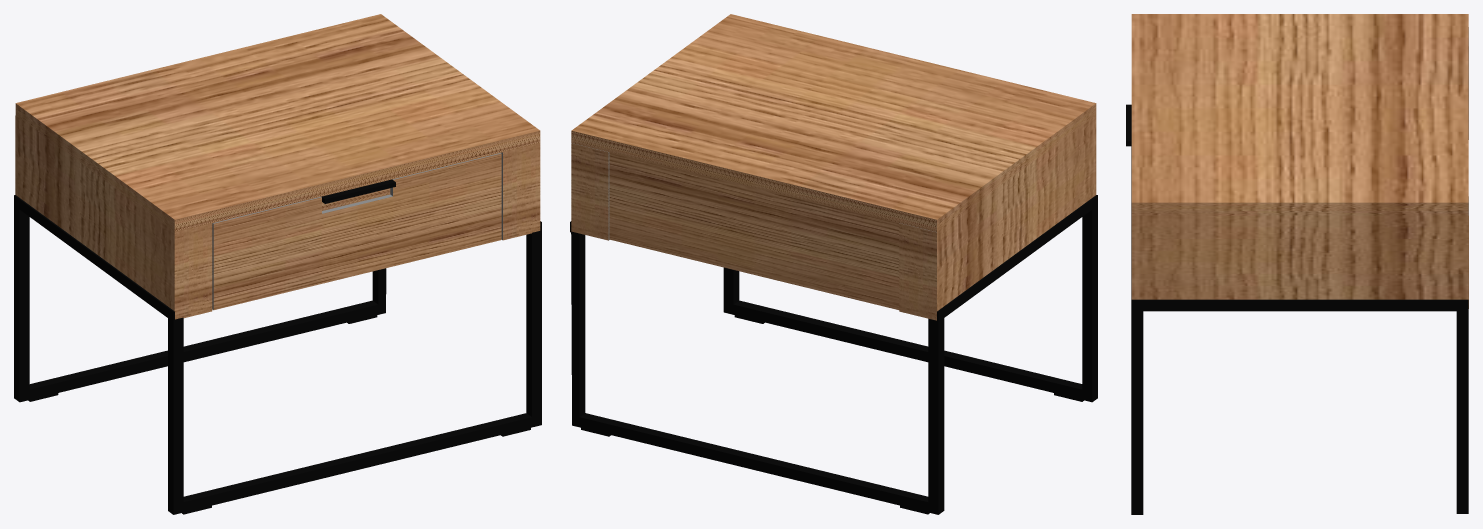
File: desk04.obj
The picture shows the model from 3 angles, left to right: view 1: azimuth 30°, elevation 25°; view 2: azimuth 150°, elevation 25°; view 3: azimuth 270°, elevation 25°; orthographic projection. The views are drawn at different scales.
Visible parts, largest first — view 1: Object.9, Object.12, Object.4, Object.10, Object.8, Object.6; view 2: Object.9, Object.11, Object.4, Object.10, Object.8; view 3: Object.9, Object.8, Object.4.
Boxes of the visible parts, x1,y1,x2,y2 form: Object.9: [15, 14, 540, 232]; Object.12: [212, 153, 501, 310]; Object.4: [14, 195, 541, 514]; Object.10: [15, 115, 212, 319]; Object.8: [501, 143, 540, 240]; Object.6: [321, 179, 395, 203]; Object.9: [571, 14, 1096, 232]; Object.11: [609, 152, 899, 309]; Object.4: [570, 195, 1097, 514]; Object.10: [899, 116, 1096, 320]; Object.8: [571, 143, 609, 240]; Object.9: [1131, 14, 1468, 215]; Object.8: [1131, 196, 1468, 308]; Object.4: [1131, 146, 1468, 514].
Bounding box in the file's own units: 128 × 98.4 × 97.4.
13 materials, 1 textured.
